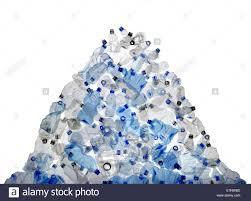bottle: (110, 31, 159, 53), (39, 0, 63, 31), (128, 52, 168, 69), (146, 96, 174, 119), (10, 156, 36, 180), (49, 103, 73, 125), (1, 168, 26, 186), (163, 73, 184, 94), (0, 0, 24, 18), (67, 165, 90, 183), (74, 126, 97, 143), (104, 0, 131, 12), (108, 175, 147, 183), (67, 80, 83, 99), (110, 51, 121, 74), (107, 90, 116, 118), (67, 143, 80, 159), (17, 145, 25, 167), (1, 114, 3, 153), (95, 87, 101, 96), (95, 52, 96, 78), (131, 72, 132, 96), (128, 106, 129, 128), (77, 119, 95, 119), (34, 177, 61, 177)
